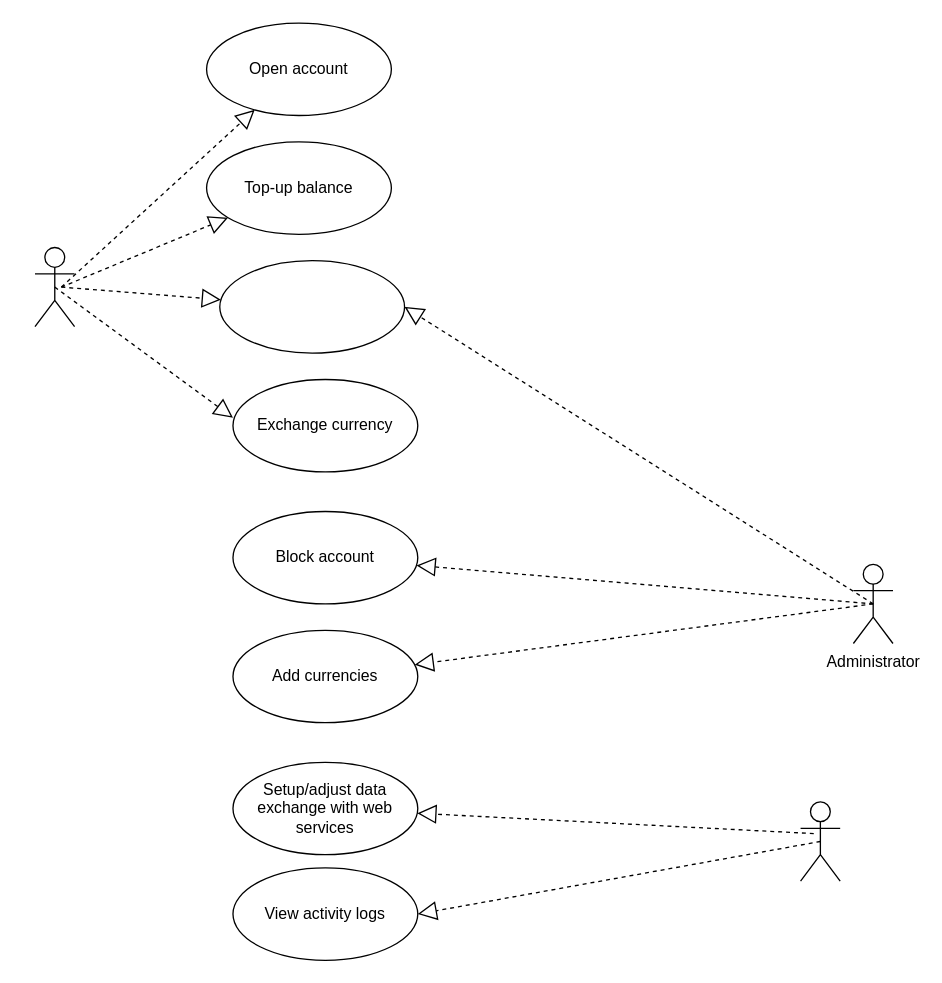
The diagram is 942 pixels wide and 983 high, and some of its shapes have lost their labels. The shapes that lost their labels are listed below. From the top down, each one's centre as x and y in pixels, then its label:
At pixel 54 286: "End user".
At pixel 311 306: "Check balance".
At pixel 819 841: "Tech support".
